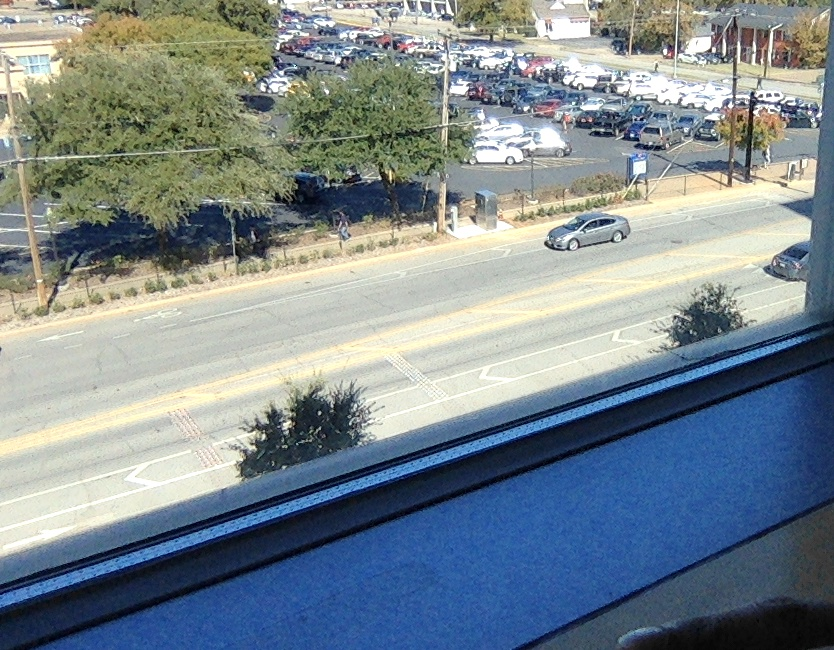car: (300, 300, 534, 374)
